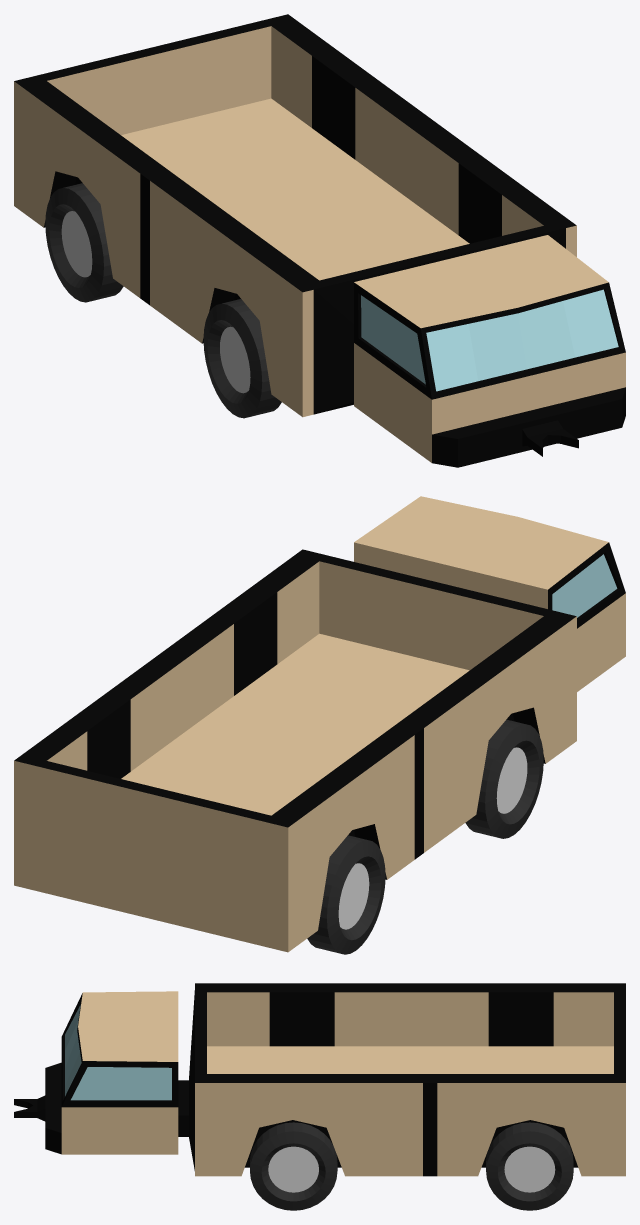
The model's file is TruckWMaterialB.fbx.
3 renders of one model, top to bottom at view 1: azimuth 30°, elevation 25°; view 2: azimuth 150°, elevation 25°; view 3: azimuth 270°, elevation 25°, orthographic. The views are drawn at different scales.
Parts seen in each view (by area): view 1: Cube, Cylinder, Cylinder.001; view 2: Cube, Cylinder.001, Cylinder; view 3: Cube, Cylinder.001, Cylinder.
Boxes of the visible parts, box(x1,y1,x2,y2) form: Cube: box(14, 14, 625, 467); Cylinder: box(203, 299, 281, 418); Cylinder.001: box(45, 183, 123, 302); Cube: box(14, 496, 625, 952); Cylinder.001: box(307, 835, 385, 954); Cylinder: box(465, 719, 543, 838); Cube: box(14, 983, 625, 1176); Cylinder.001: box(486, 1122, 573, 1210); Cylinder: box(250, 1122, 337, 1210).
Bounding box in the file's own units: 298 × 175 × 732.
